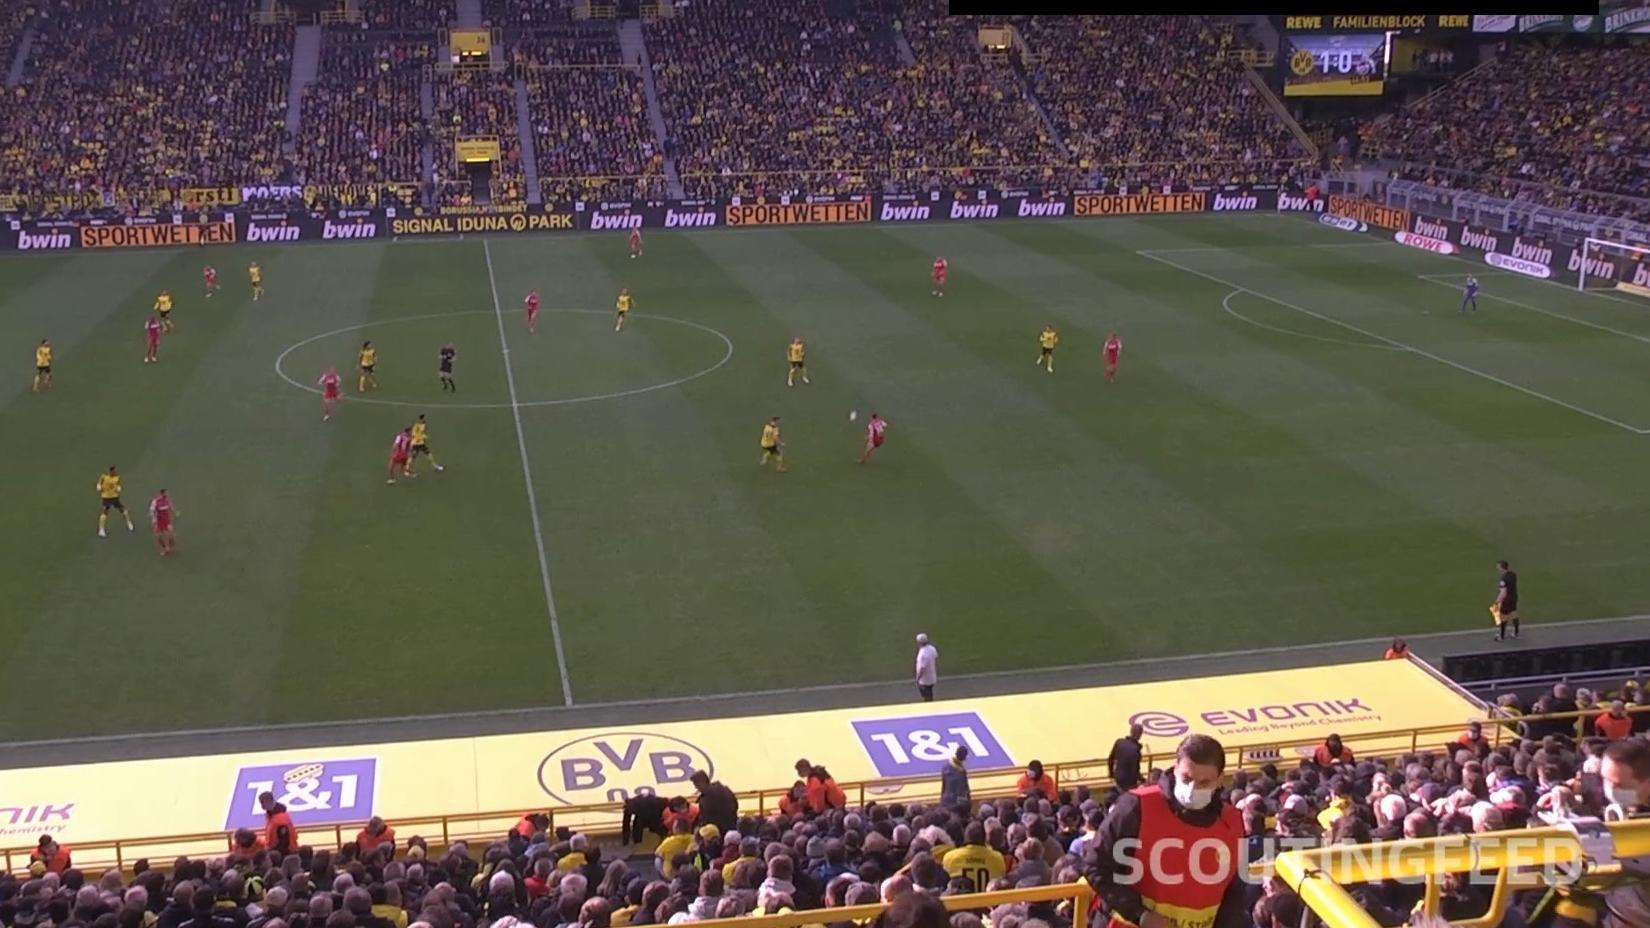ball: (849, 409, 859, 422)
